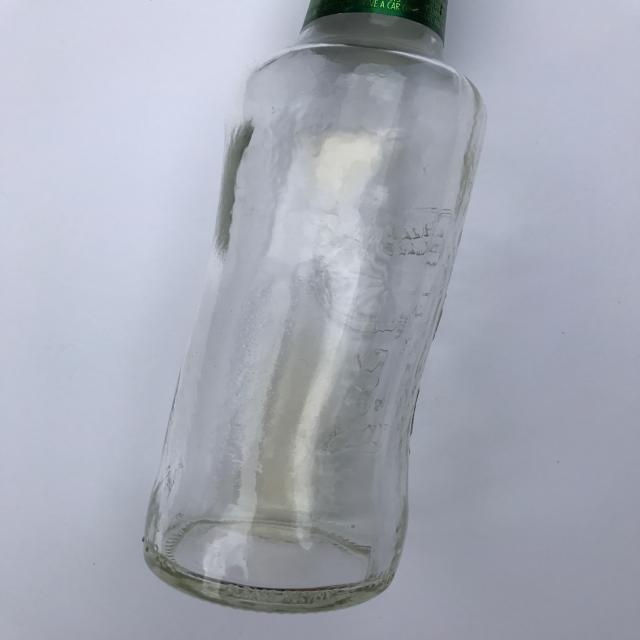glass: (132, 1, 489, 624)
